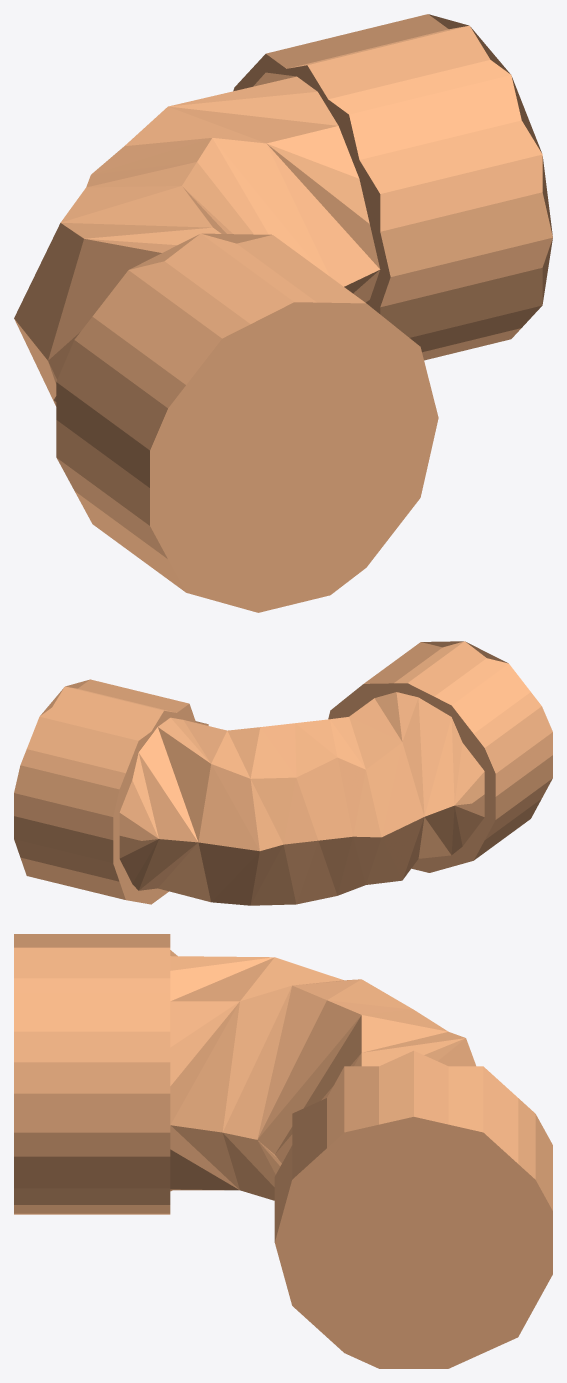
3 renders of one model, top to bottom at view 1: azimuth 30°, elevation 25°; view 2: azimuth 150°, elevation 25°; view 3: azimuth 270°, elevation 25°, orthographic. The views are drawn at different scales.
Size of the model in its own units: 0.0362 by 0.0187 by 0.0362.
